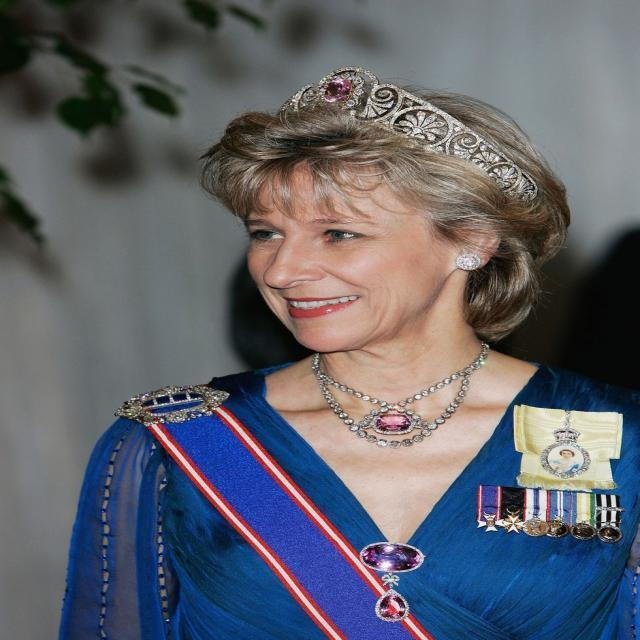Earring: (448, 241, 484, 283)
